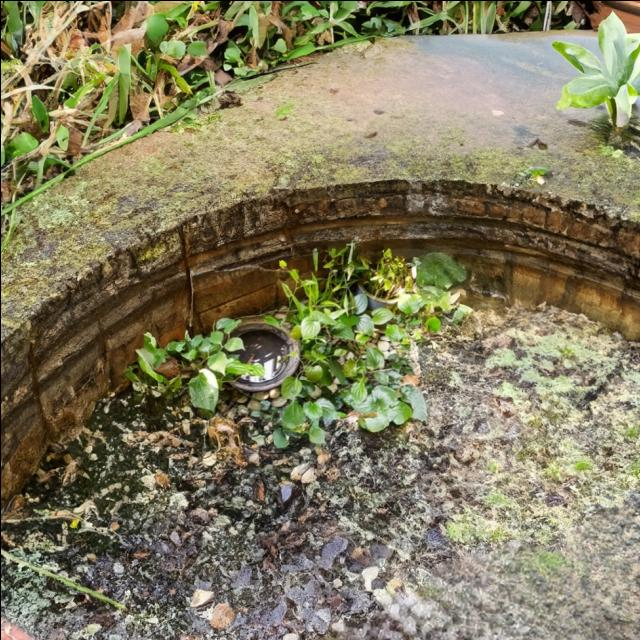Breeding Place: (0, 14, 640, 640), (0, 269, 640, 640), (166, 277, 330, 418)
